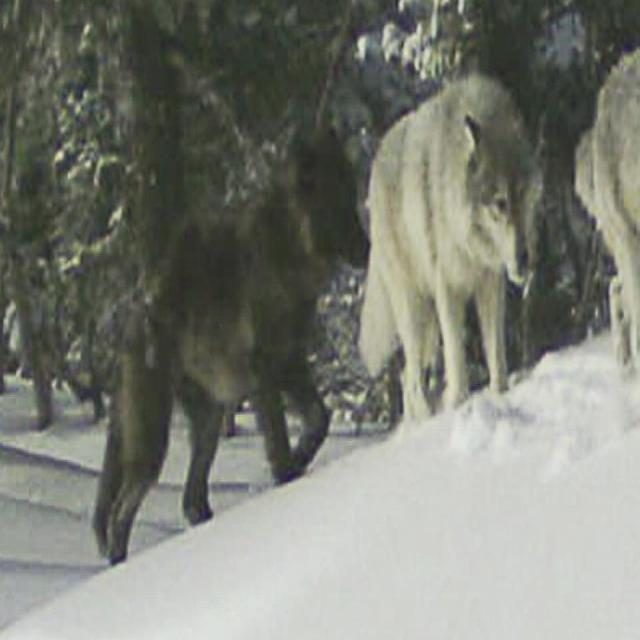wolf: (82, 106, 374, 576), (365, 69, 574, 496), (582, 22, 640, 422)
